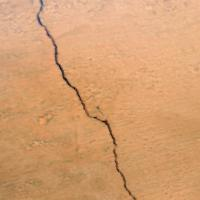crack: (30, 0, 140, 199)
